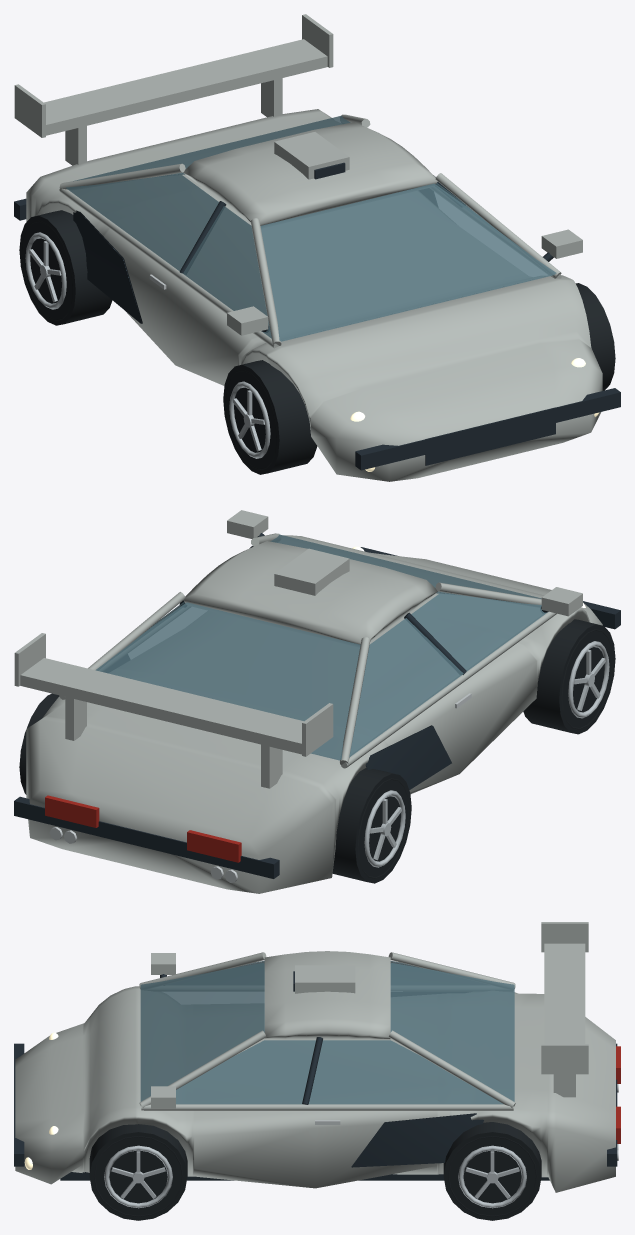
The model's file is modena.glb.
3 views of the same model, one above another, from view 1: azimuth 30°, elevation 25°; view 2: azimuth 150°, elevation 25°; view 3: azimuth 270°, elevation 25° (orthographic). The views are drawn at different scales.
Parts seen in each view (by area): view 1: exterior-paint, windows, black-trim, tire-front-left, tire-rear-left, tire-front-right, rim-front-left, rim-rear-left; view 2: exterior-paint, windows, black-trim, tire-front-left, tire-rear-left, taillights, rim-front-left, rim-rear-left, tire-rear-right, chrome; view 3: exterior-paint, windows, black-trim, tire-front-right, tire-rear-right, rim-front-right, rim-rear-right.
Part boxes in pixels (x1,y1,x2,y2): exterior-paint: (14,14,602,481); windows: (66,115,556,341); black-trim: (14,162,620,470); tire-front-left: (223,360,317,474); tire-rear-left: (19,210,112,325); tire-front-right: (575,283,615,390); rim-front-left: (229,381,270,458); rim-rear-left: (25,232,66,309); exterior-paint: (14,510,602,893); windows: (95,534,547,760); black-trim: (14,533,620,878); tire-front-left: (523,619,615,734); tire-rear-left: (332,768,411,883); taillights: (45,795,241,862); rim-front-left: (568,641,609,718); rim-rear-left: (364,790,405,867); tire-rear-right: (19,693,59,794); chrome: (49,693,471,882); exterior-paint: (15,922,615,1192); windows: (140,960,514,1104); black-trim: (14,971,617,1180); tire-front-right: (89,1124,187,1220); tire-rear-right: (443,1122,541,1220); rim-front-right: (104,1145,172,1208); rim-rear-right: (458,1145,526,1208).
Size of the model in its own units: 2.19 by 1.23 by 3.84.
